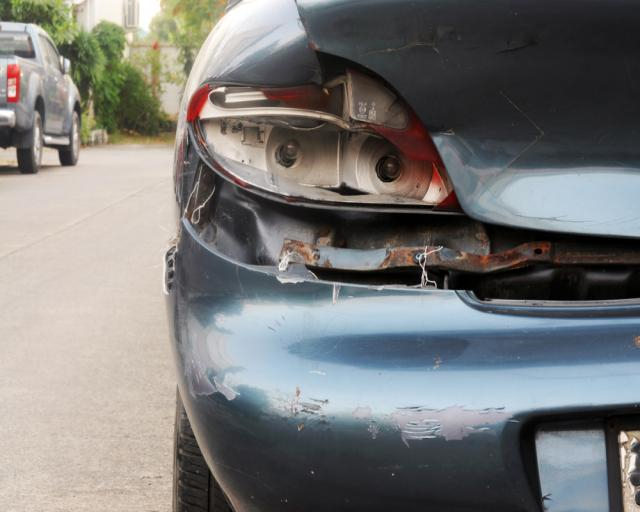dent: (213, 198, 265, 264)
lamp broken: (188, 52, 455, 208)
scratch: (181, 362, 516, 450)
